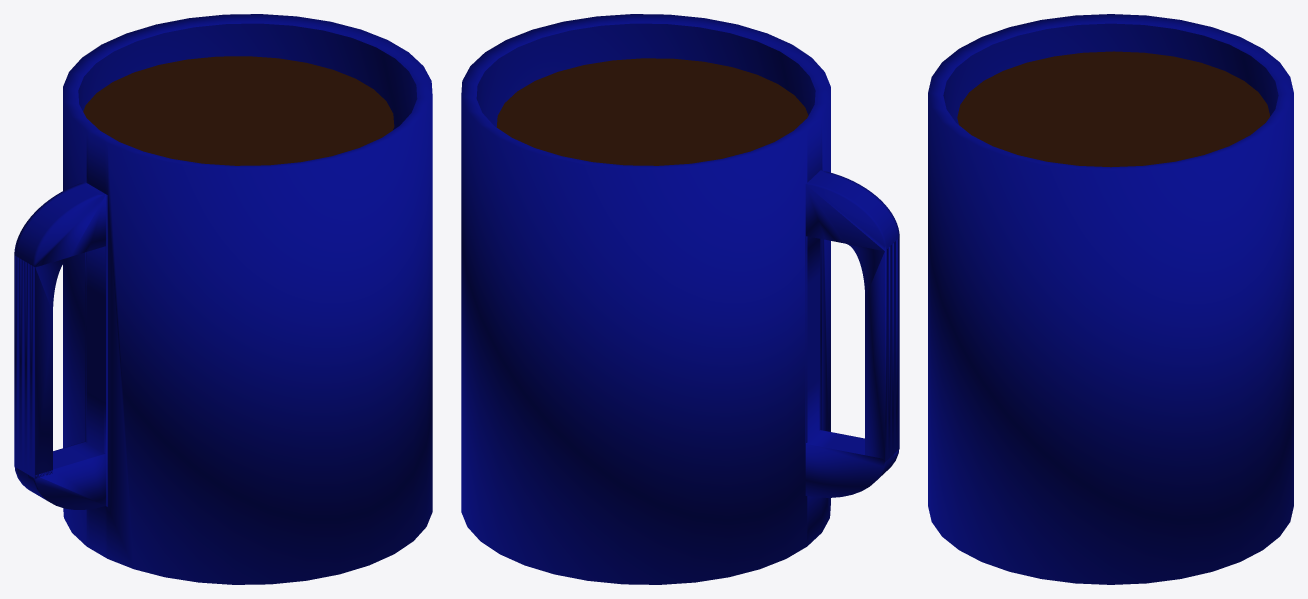
The model's file is coffee.fbx.
The picture shows the model from 3 angles, left to right: view 1: azimuth 30°, elevation 25°; view 2: azimuth 150°, elevation 25°; view 3: azimuth 270°, elevation 25°; orthographic projection.
Visible parts, largest first — view 1: Mug, Coffee (Surface), Mug (Handle), Mug (Interior); view 2: Mug, Coffee (Surface), Mug (Handle), Mug (Interior); view 3: Mug, Coffee (Surface), Mug (Interior).
Boxes of the visible parts, box(x1,y1,x2,y2) form: Mug: box(63, 14, 432, 584); Coffee (Surface): box(83, 56, 394, 165); Mug (Handle): box(14, 182, 106, 509); Mug (Interior): box(78, 23, 417, 506); Mug: box(461, 14, 830, 584); Coffee (Surface): box(496, 58, 808, 165); Mug (Handle): box(805, 170, 899, 497); Mug (Interior): box(476, 23, 815, 127); Mug: box(928, 14, 1293, 584); Coffee (Surface): box(957, 51, 1270, 167); Mug (Interior): box(943, 23, 1278, 124).
Bounding box in the file's own units: 0.5 × 0.5 × 0.4.
